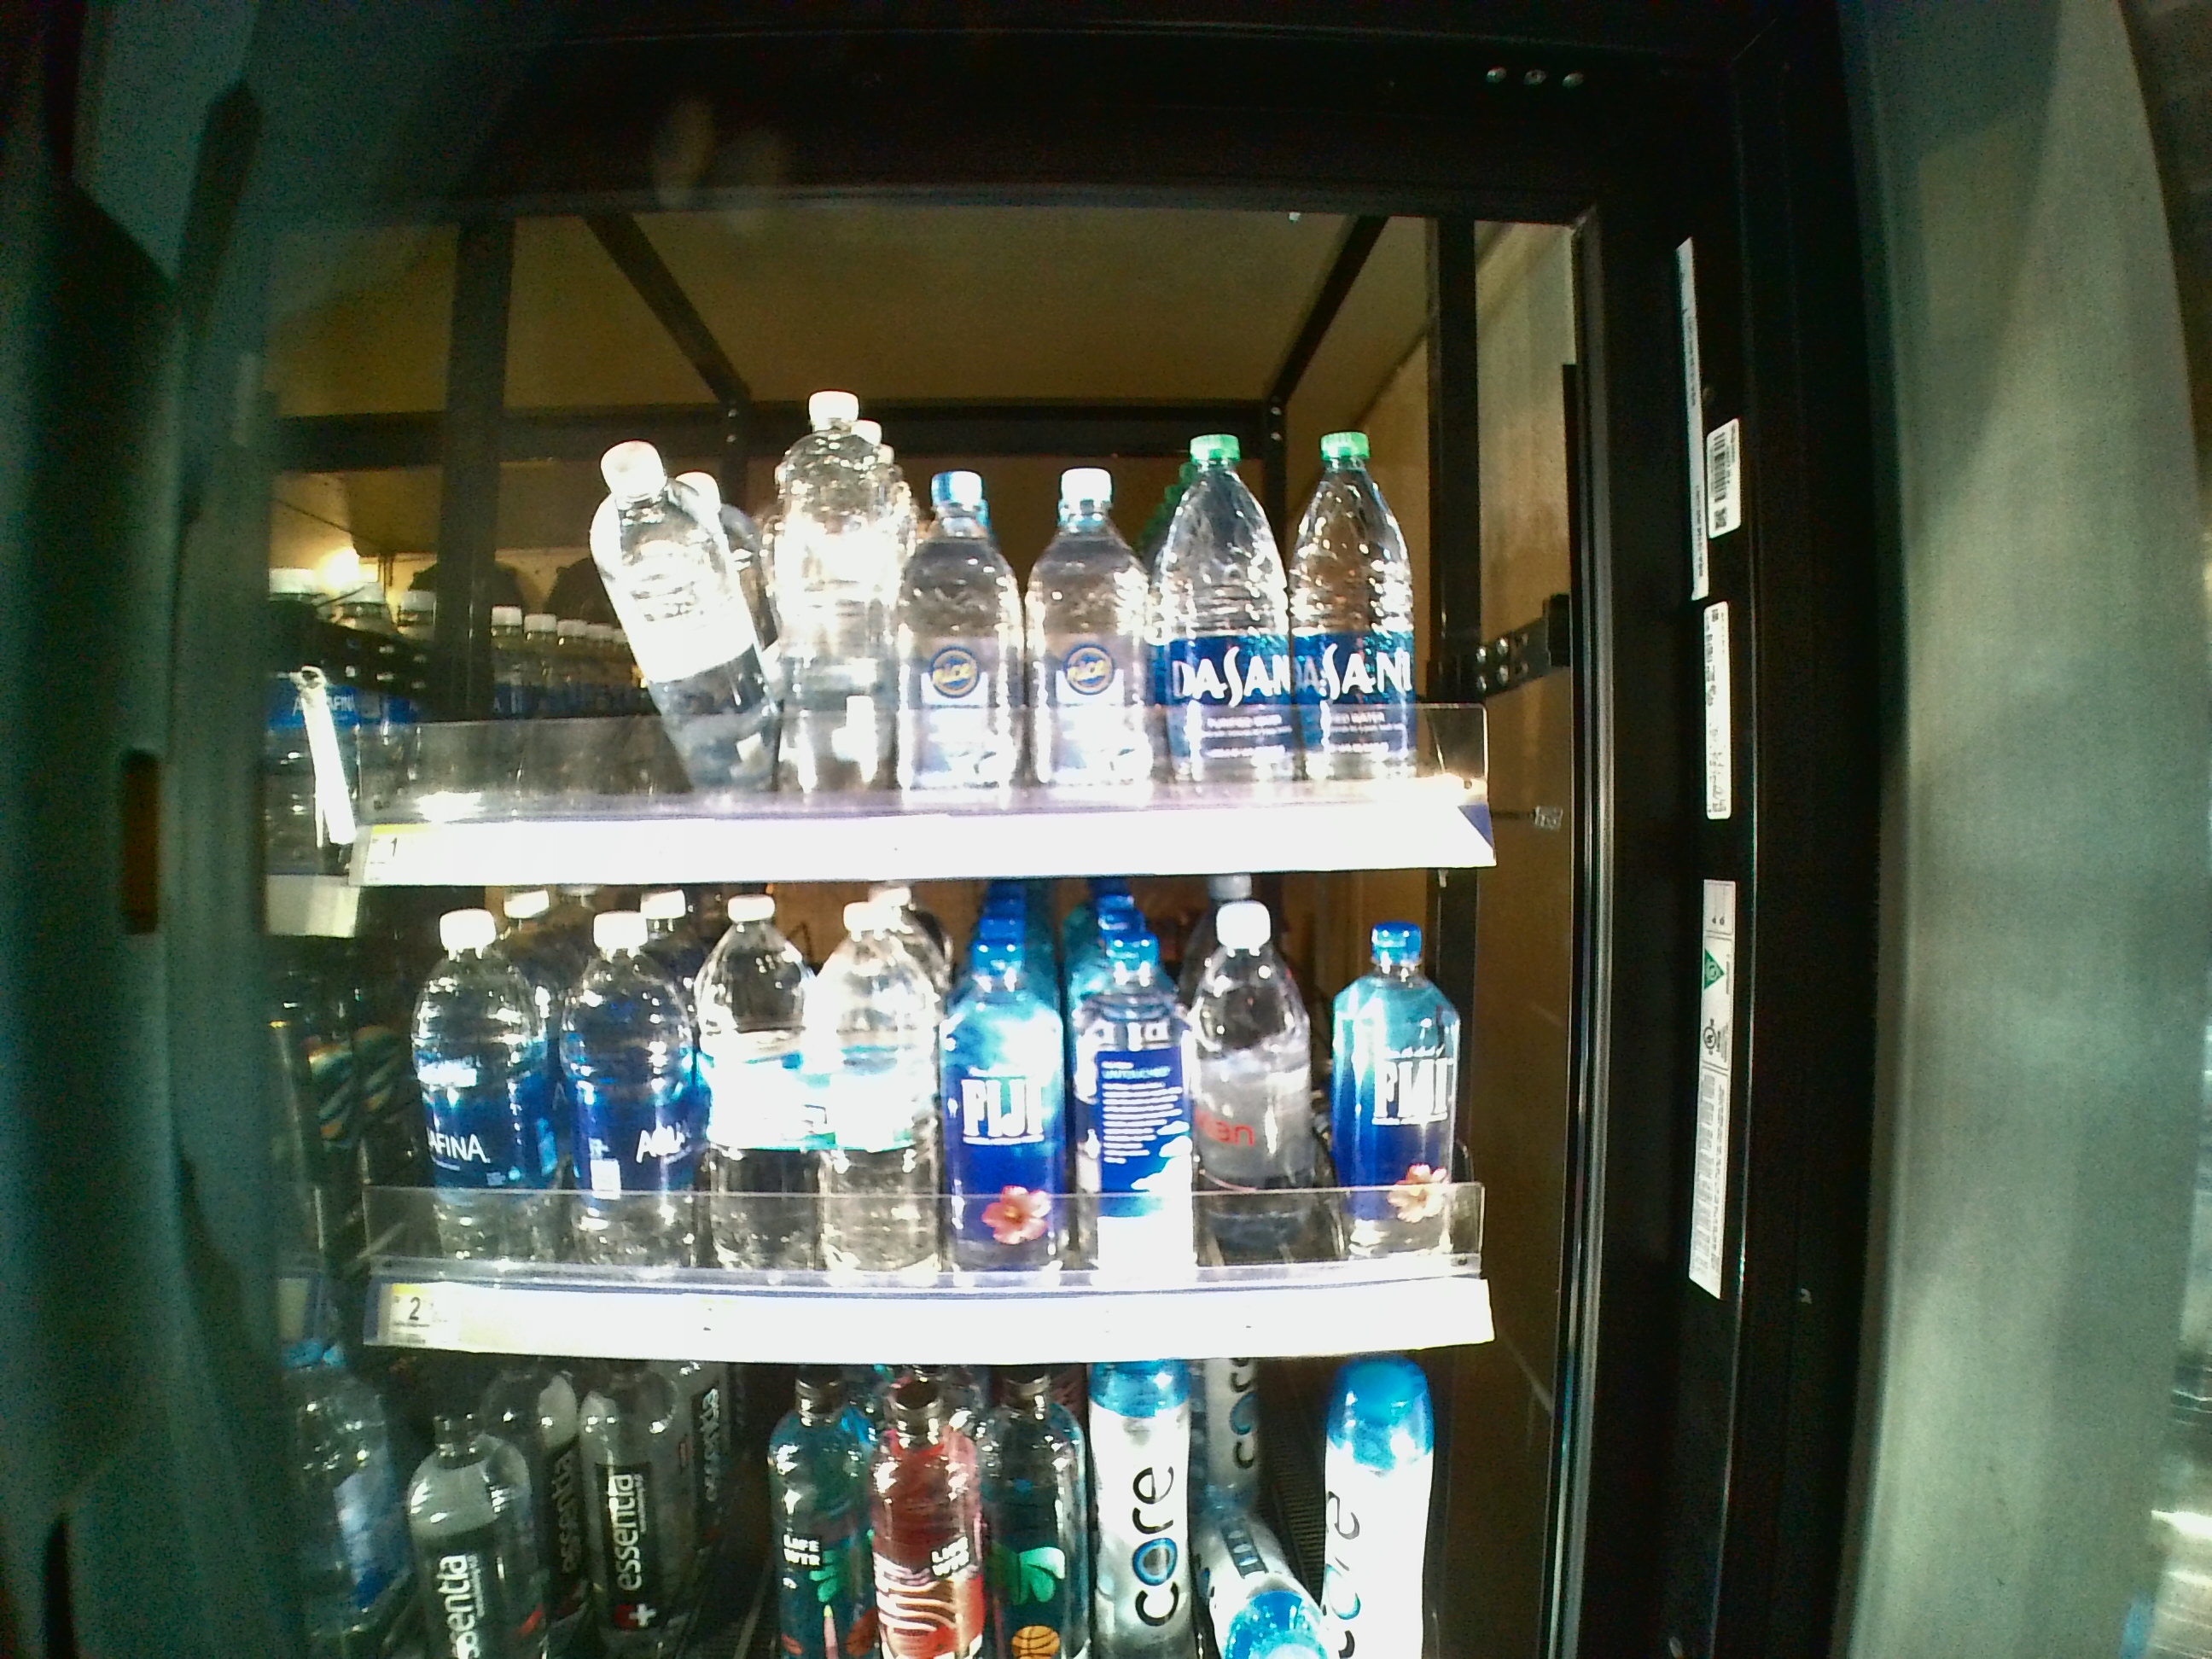Shelf: (296, 291, 1519, 873), (294, 871, 1521, 1366)
